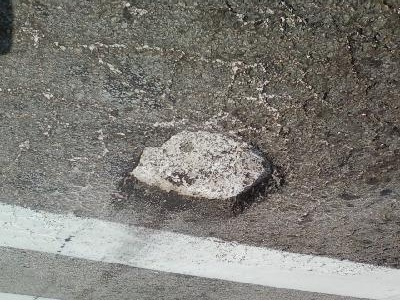pothole: (117, 121, 287, 220)
